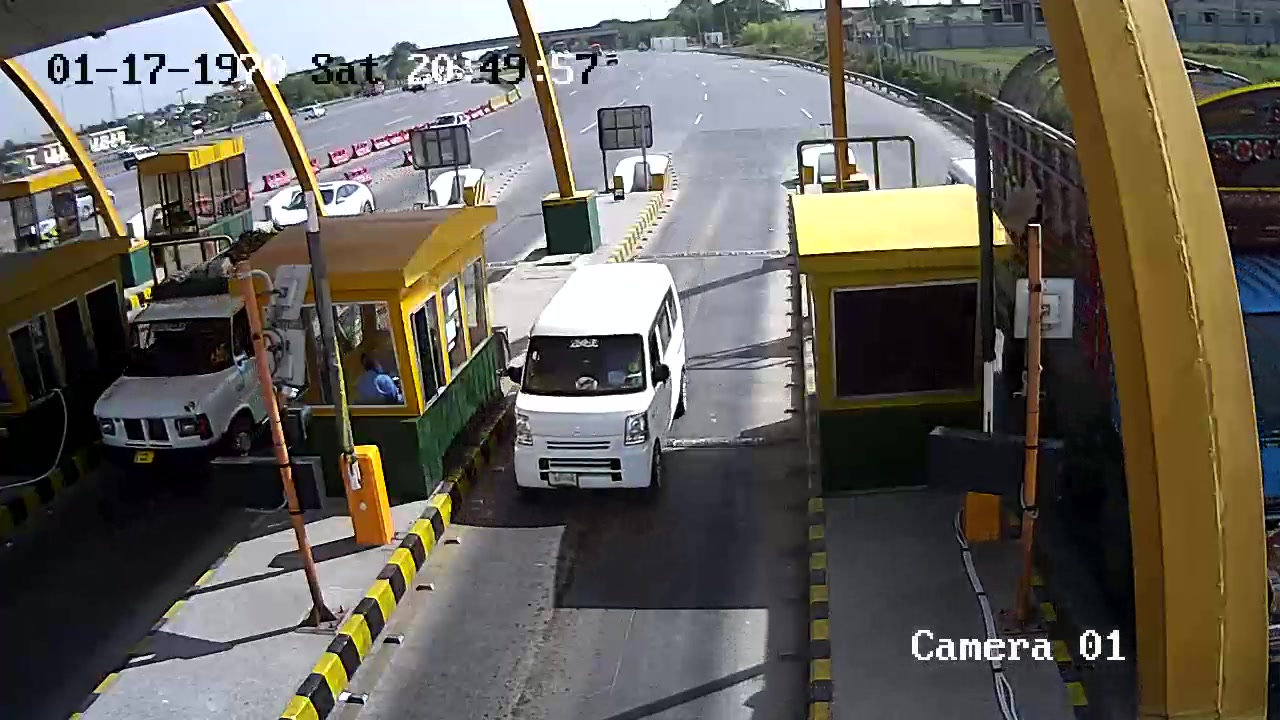F1: (502, 254, 712, 510)
